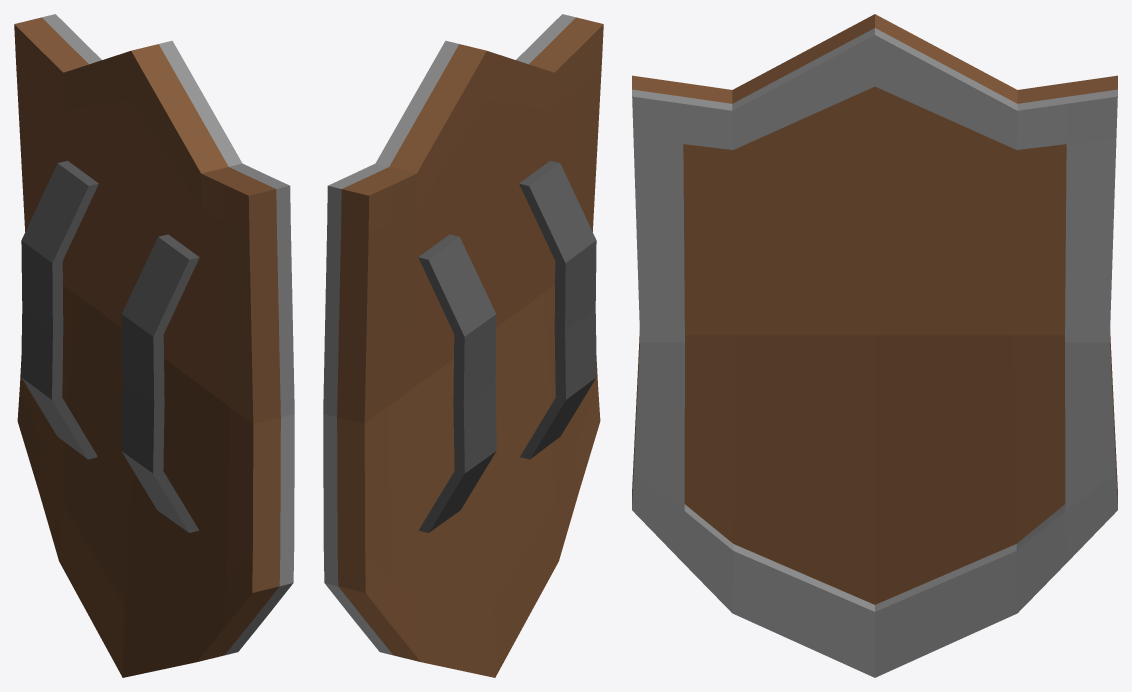
File: tarcza.fbx
The picture shows the model from 3 angles, left to right: view 1: azimuth 30°, elevation 25°; view 2: azimuth 150°, elevation 25°; view 3: azimuth 270°, elevation 25°; orthographic projection. The views are drawn at different scales.
Parts seen in each view (by area): view 1: Cube; view 2: Cube; view 3: Cube.
Boxes of the visible parts, x1,y1,x2,y2 form: Cube: (14, 14, 294, 677); Cube: (323, 14, 603, 677); Cube: (632, 14, 1117, 677).
Bounding box in the file's own units: 79.41 × 500 × 340.
